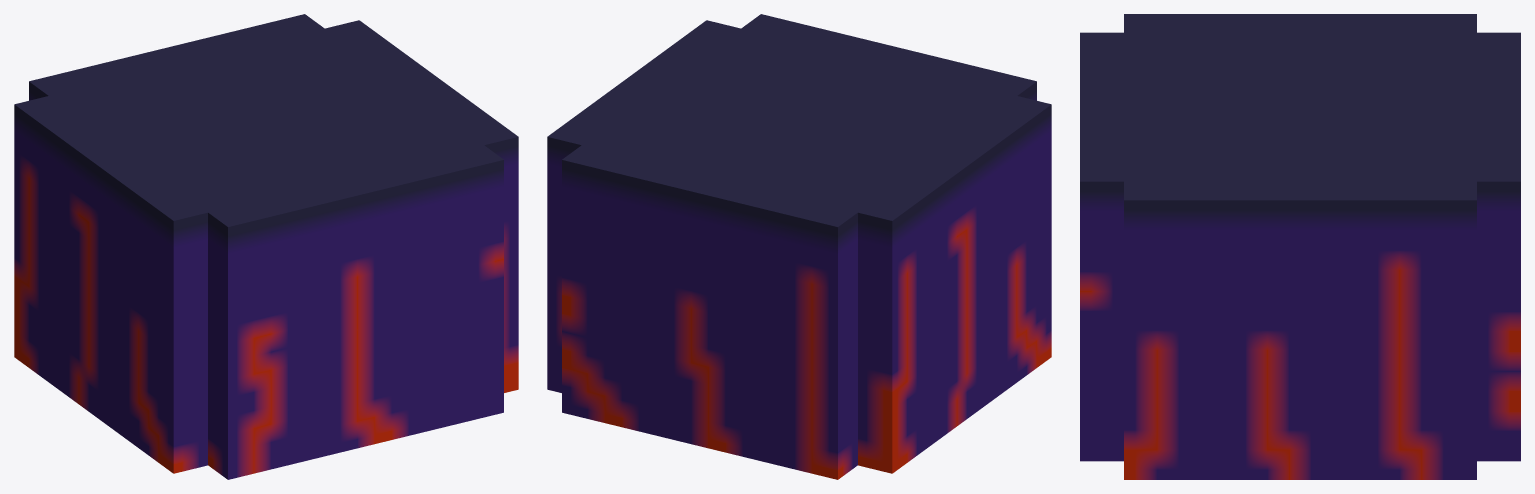
The model's file is ThornTrap.fbx.
3 views of the same model, side by side, from view 1: azimuth 30°, elevation 25°; view 2: azimuth 150°, elevation 25°; view 3: azimuth 270°, elevation 25° (orthographic). The views are drawn at different scales.
Visible parts, largest first — view 1: ThornTrap; view 2: ThornTrap; view 3: ThornTrap.
Boxes of the visible parts, <box> form: ThornTrap: <box>14,14,518,479</box>; ThornTrap: <box>547,14,1051,479</box>; ThornTrap: <box>1080,14,1520,479</box>.
Bounding box in the file's own units: 20 × 14 × 20.
Materials: 1 (1 with a texture image).
